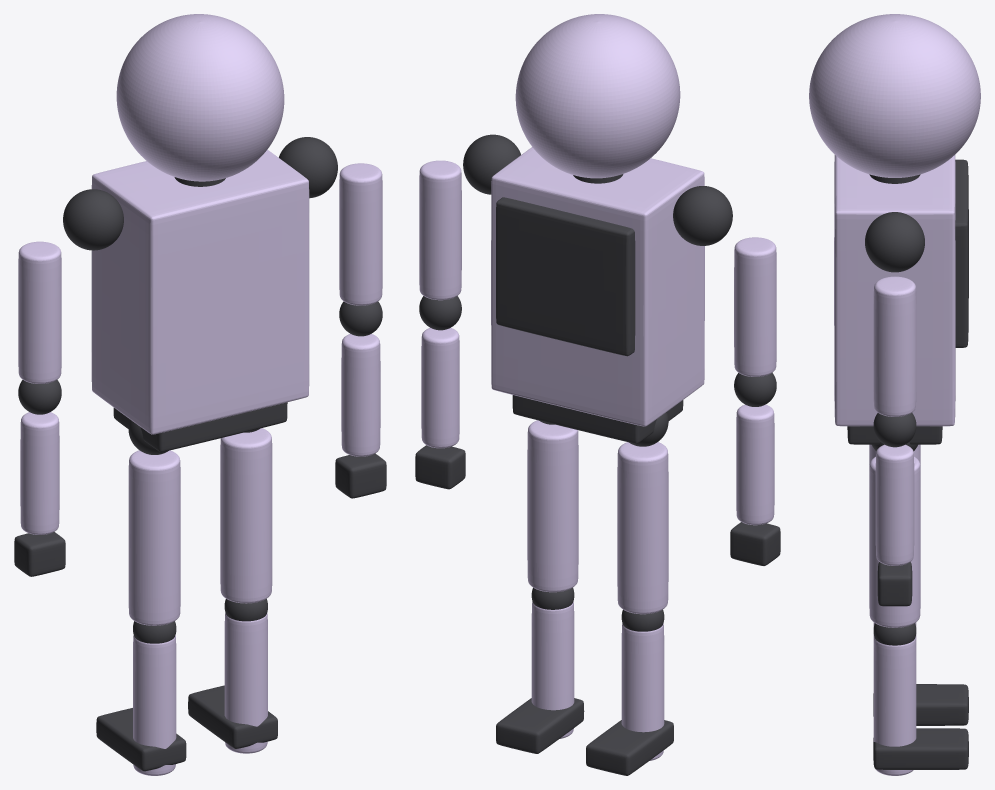
File: Dummy_Mannequin_Lavender_Hi.fbx
The picture shows the model from 3 angles, left to right: view 1: azimuth 30°, elevation 25°; view 2: azimuth 150°, elevation 25°; view 3: azimuth 270°, elevation 25°; orthographic projection.
Visible parts, largest first — view 1: Torso, Head, UpperLeg_L, UpperLeg_R, UpperArm_L, UpperArm_R, LowerLeg_R, LowerLeg_L, LowerArm_L, LowerArm_R, Pelvis, Shoulder_L (+9 smaller); view 2: Torso, Head, ChestPlate, UpperLeg_L, UpperLeg_R, UpperArm_R, UpperArm_L, LowerArm_R, LowerArm_L, LowerLeg_L, LowerLeg_R, Foot_L (+10 smaller); view 3: Head, Torso, UpperArm_R, LowerLeg_R, LowerArm_R, Foot_R, UpperLeg_R, Shoulder_R, ChestPlate, Foot_L, Hand_R, Elbow_R (+2 smaller).
Part boxes in pixels (box(x1,y1,x2,y2)): Torso: box(91, 149, 309, 434); Head: box(116, 14, 284, 181); UpperLeg_L: box(128, 450, 180, 625); UpperLeg_R: box(220, 428, 272, 603); UpperArm_L: box(18, 241, 61, 383); UpperArm_R: box(339, 163, 382, 305); LowerLeg_R: box(224, 613, 267, 753); LowerLeg_L: box(133, 635, 176, 775); LowerArm_L: box(20, 412, 59, 534); LowerArm_R: box(341, 334, 380, 456); Pelvis: box(113, 402, 287, 451); Shoulder_L: box(63, 189, 123, 250); Torso: box(491, 147, 704, 426); Head: box(515, 14, 680, 178); ChestPlate: box(496, 197, 635, 356); UpperLeg_L: box(617, 442, 668, 614); UpperLeg_R: box(527, 420, 578, 592); UpperArm_R: box(419, 160, 461, 300); UpperArm_L: box(734, 237, 776, 376); LowerArm_R: box(421, 327, 459, 448); LowerArm_L: box(736, 404, 774, 525); LowerLeg_L: box(621, 623, 664, 760); LowerLeg_R: box(531, 601, 574, 738); Foot_L: box(586, 720, 673, 775); Head: box(809, 14, 980, 177); Torso: box(834, 155, 955, 426); UpperArm_R: box(873, 276, 916, 416); LowerLeg_R: box(873, 637, 916, 775); LowerArm_R: box(875, 444, 914, 565); Foot_R: box(873, 728, 968, 769); UpperLeg_R: box(869, 456, 920, 627); Shoulder_R: box(865, 212, 924, 272); ChestPlate: box(955, 159, 968, 347); Foot_L: box(873, 684, 968, 725); Hand_R: box(877, 562, 912, 606); Elbow_R: box(873, 413, 916, 447).
Bounding box in the file's own units: 0.9397 × 1.84 × 0.3949.
